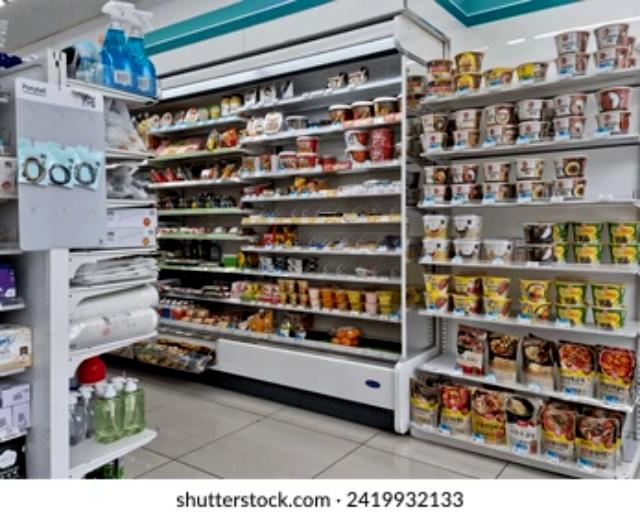background: (1, 1, 640, 480)
